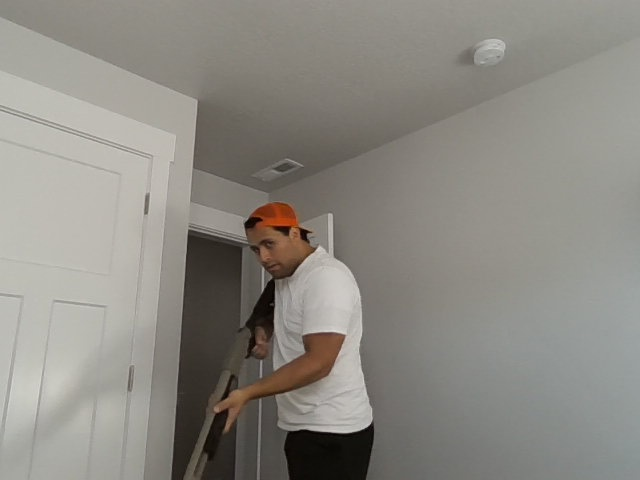shotgun: (174, 278, 275, 476)
